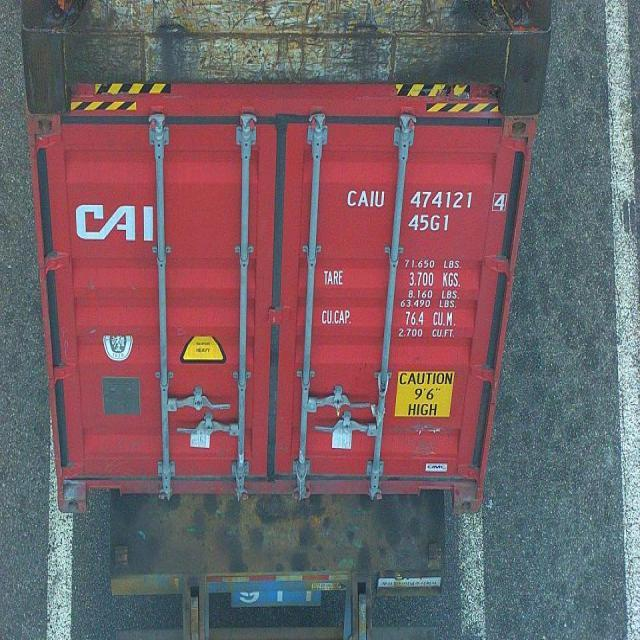ISO: (406, 213, 449, 233)
container_number: (346, 183, 508, 213)
